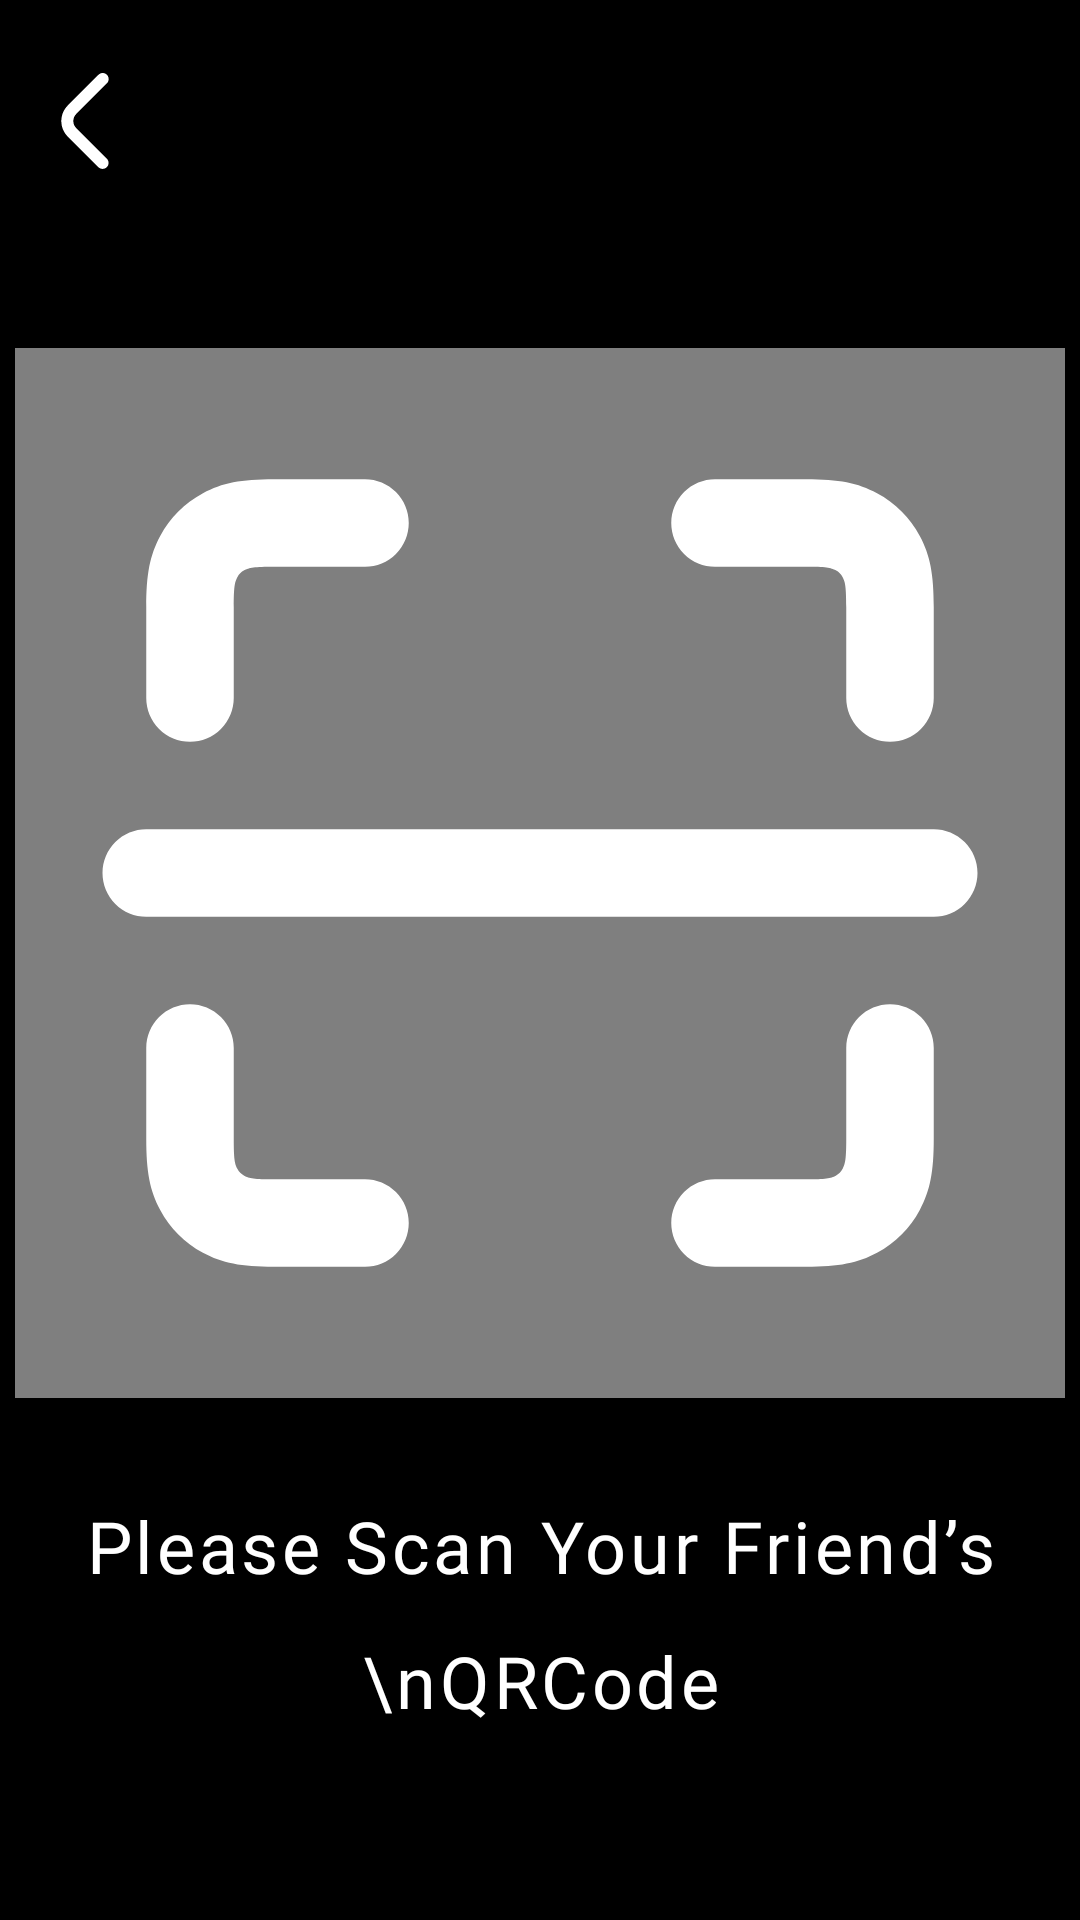

Icon bounding boxes for this 1080 x 1920 phone screenshot, format (x1=x1, y1=y1, x2=x2, y2=y2):
back page: (x1=61, y1=73, x2=109, y2=169)
